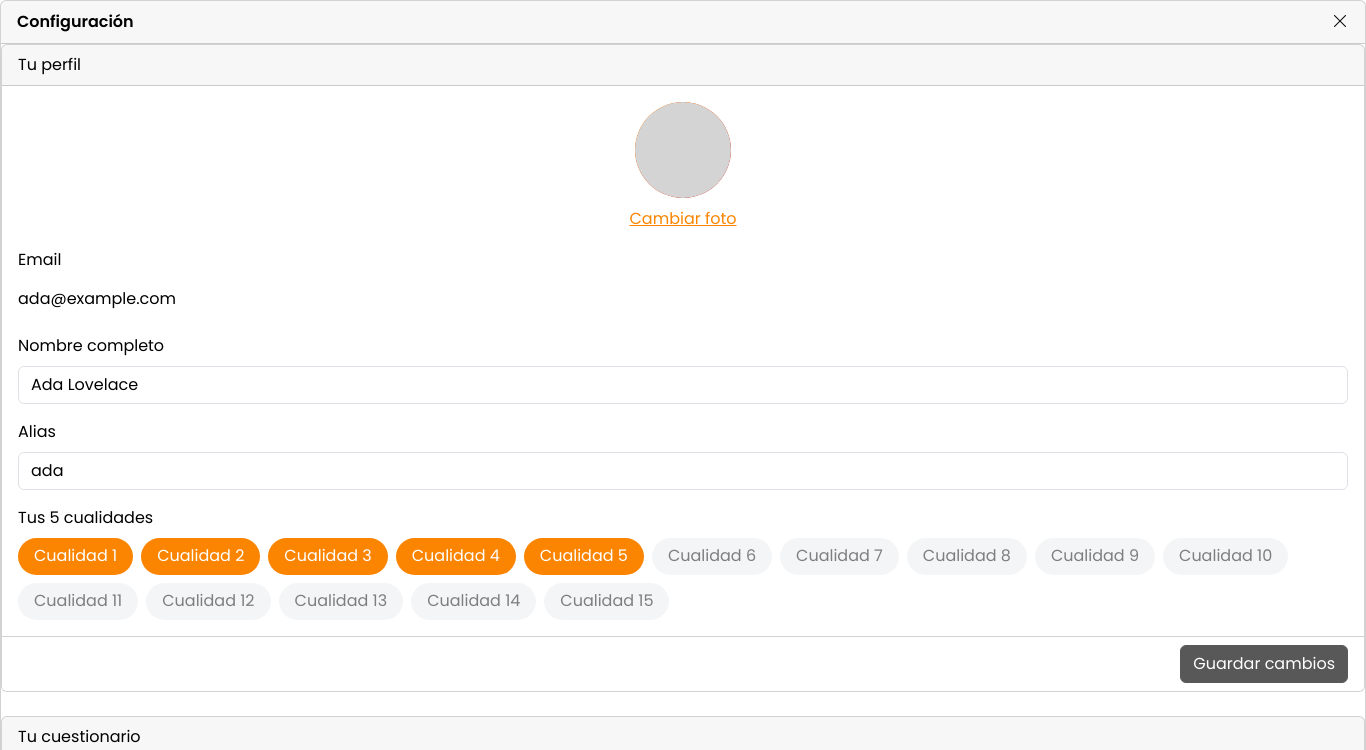
Test: SettingsComponent — perfil (tarea 17.1) › valida el alias en vivo contra GET /users/check-alias, igual que el registro
Replace the text in the field with id "settings-alias" with "ocupado" at (683, 471), box [18,452,1348,490]
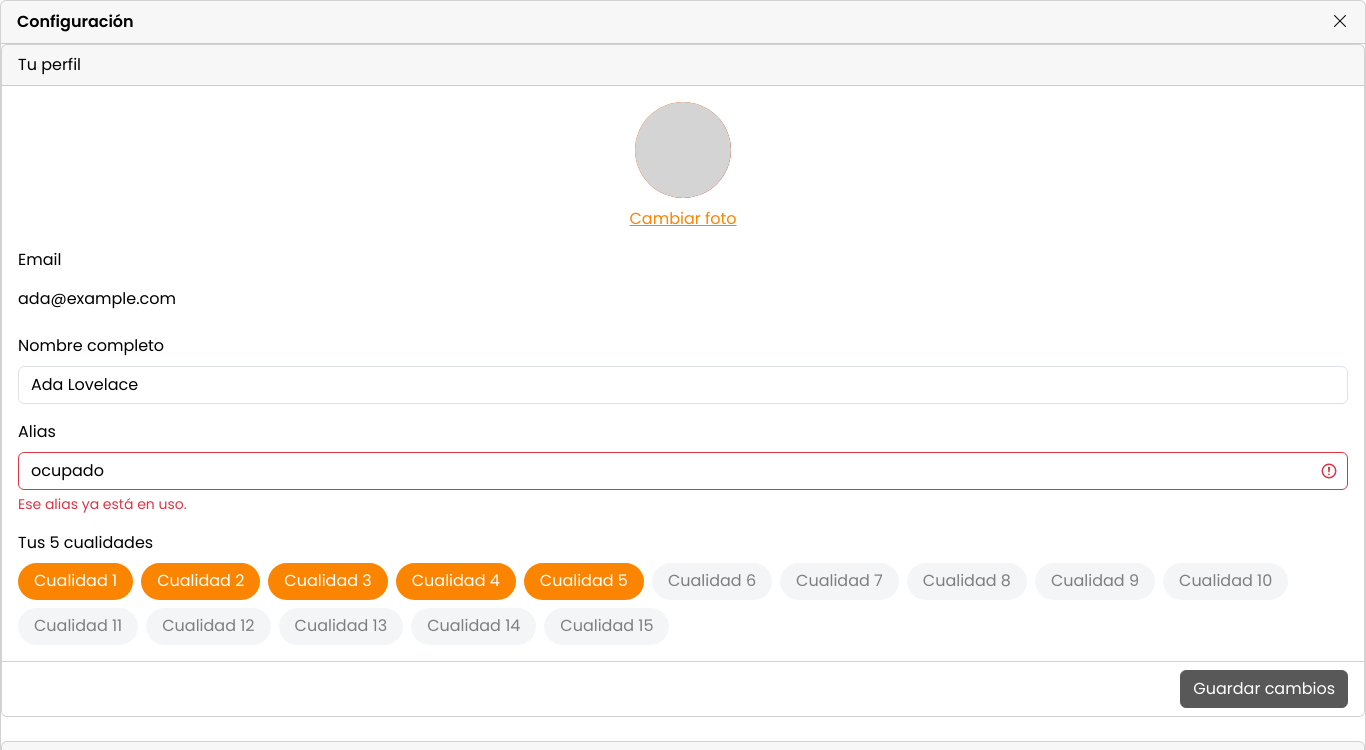
Expected: the button "Guardar cambios" is disabled, [1180,670,1348,708]
Result: the text with class "invalid-feedback" shows "ya está en uso" at [18,494,187,514]
